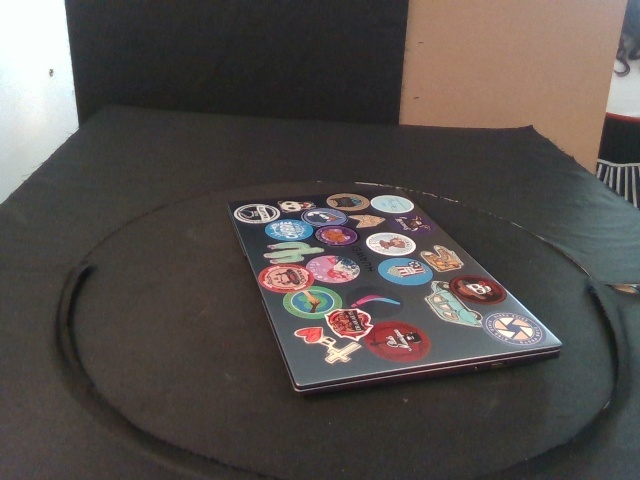laptop: (225, 190, 565, 396)
